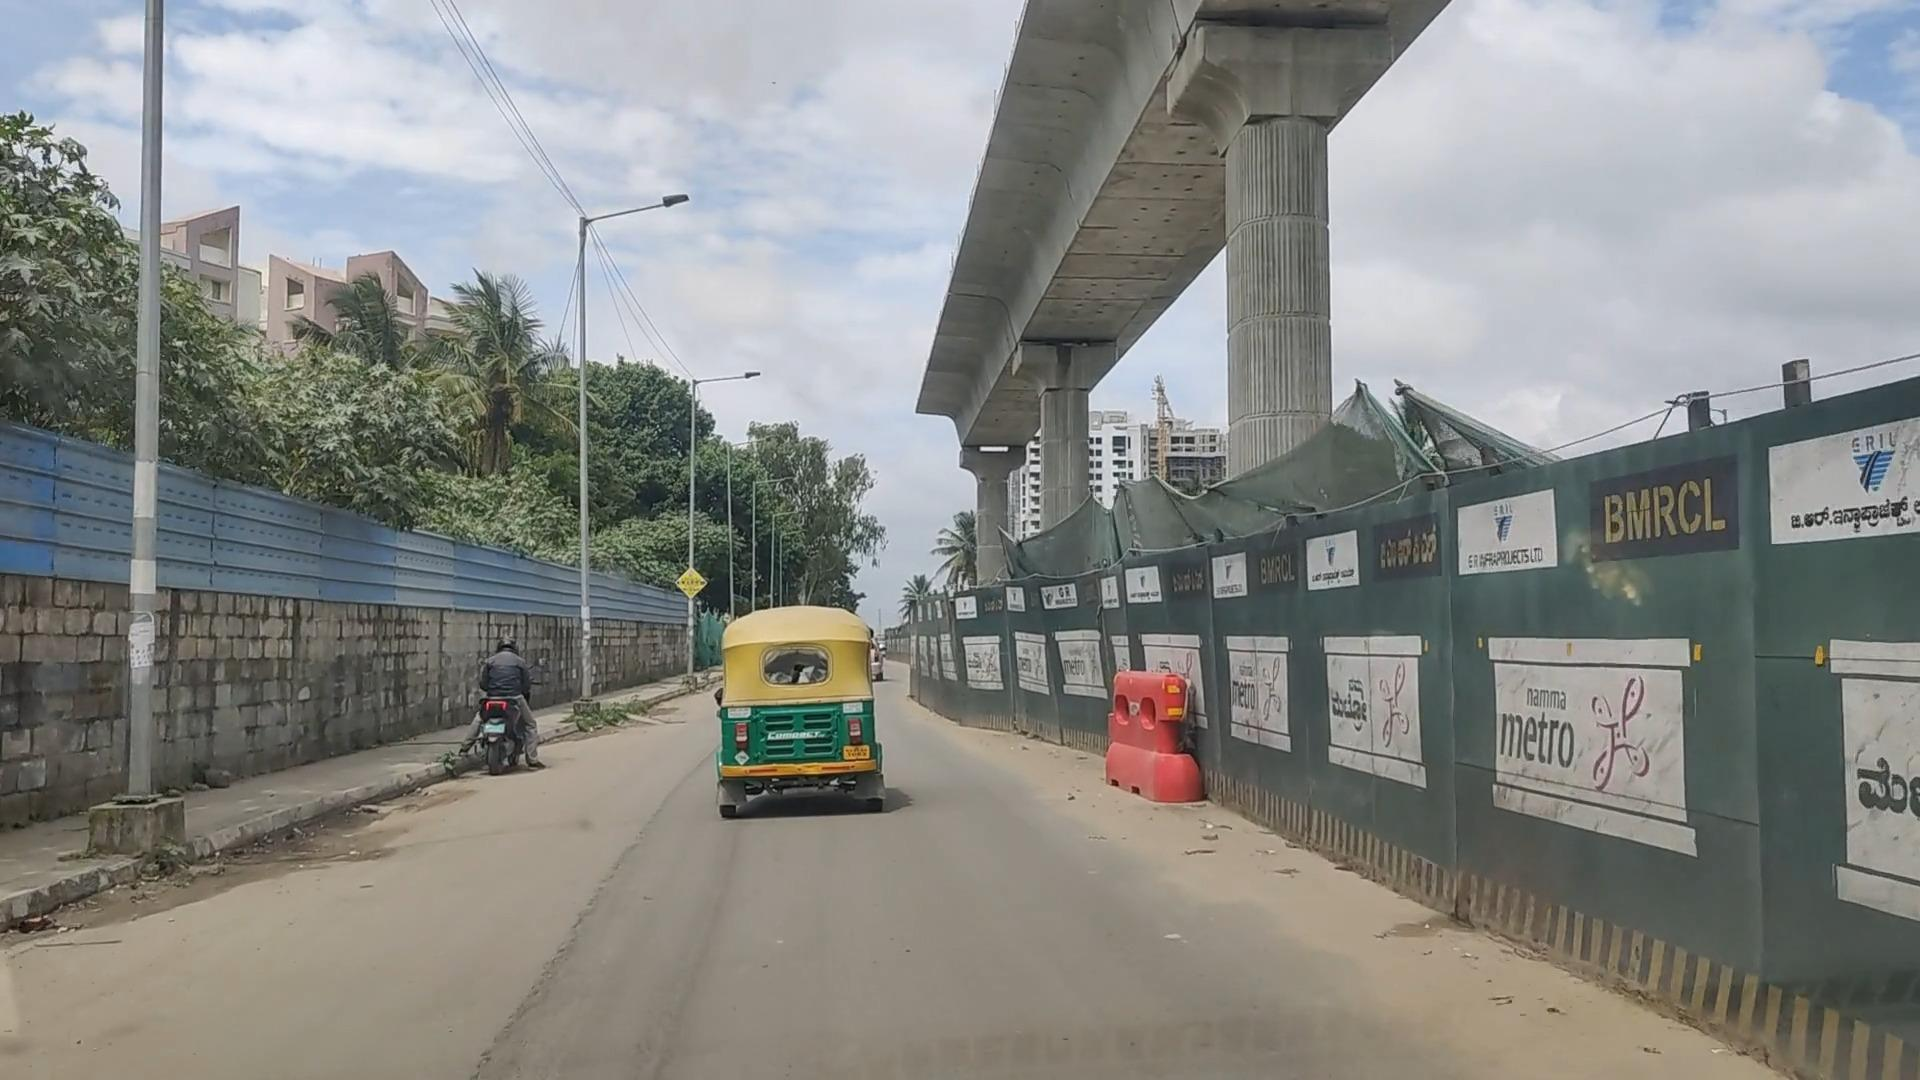LMV: (694, 588, 895, 835), (460, 626, 541, 781)
